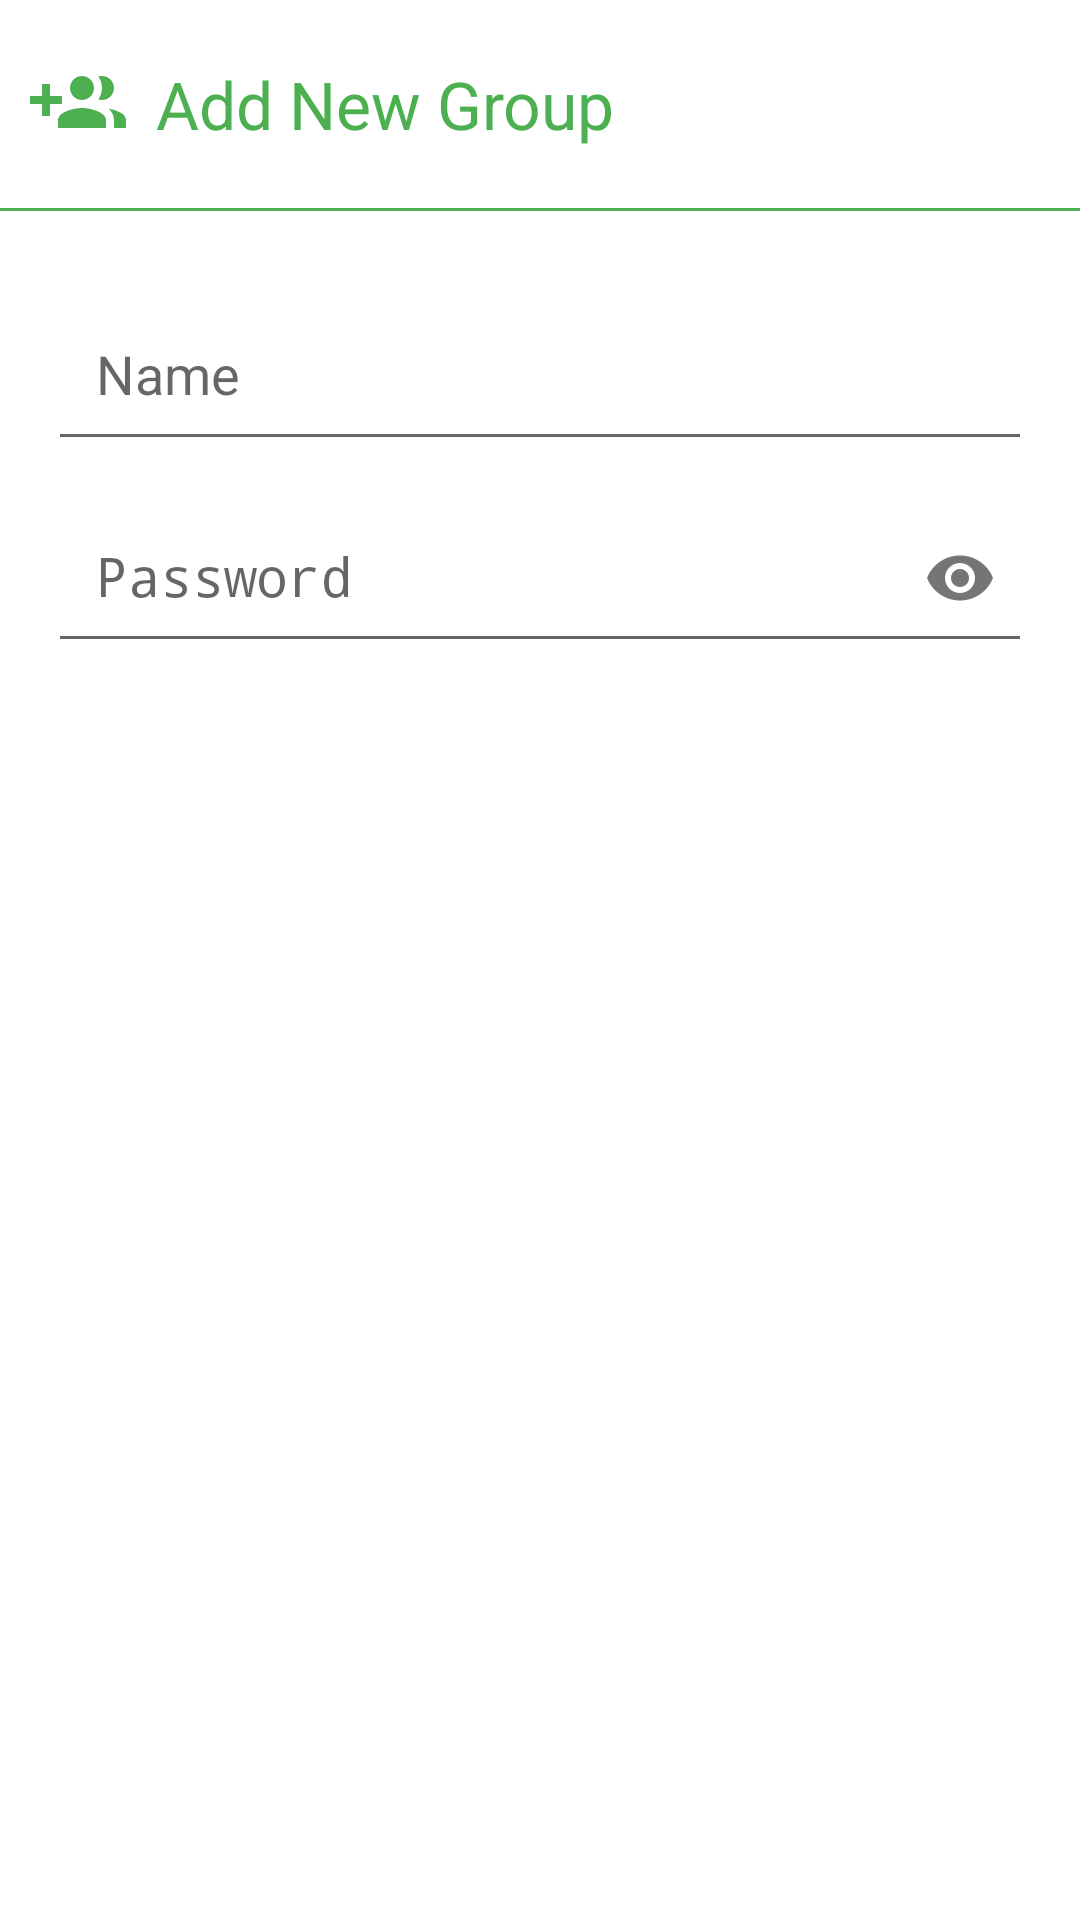

Point at icon controls on the screen. Image size 1080 x 1920, points as point (x, y).
Create: point (78, 102)
